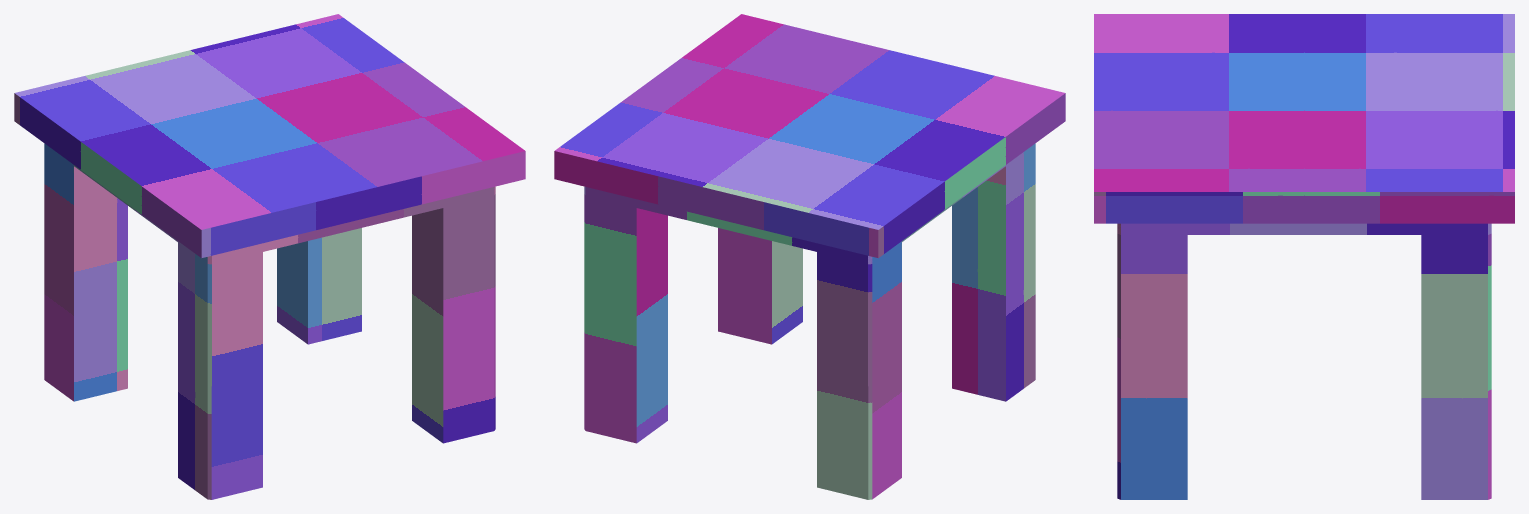
The model's file is rmk_mnc_tableS_mtl.dae.
3 views of the same model, side by side, from view 1: azimuth 30°, elevation 25°; view 2: azimuth 150°, elevation 25°; view 3: azimuth 270°, elevation 25° (orthographic). The views are drawn at different scales.
Parts seen in each view (by area): view 1: rmk_mnc_tableS_mtl; view 2: rmk_mnc_tableS_mtl; view 3: rmk_mnc_tableS_mtl.
Part boxes in pixels (box(x1,y1,x2,y2)): rmk_mnc_tableS_mtl: box(14, 14, 525, 499); rmk_mnc_tableS_mtl: box(554, 14, 1065, 499); rmk_mnc_tableS_mtl: box(1094, 14, 1514, 499).
Size of the model in its own units: 28.8 by 24 by 28.8.
Materials: 1 (1 with a texture image).
